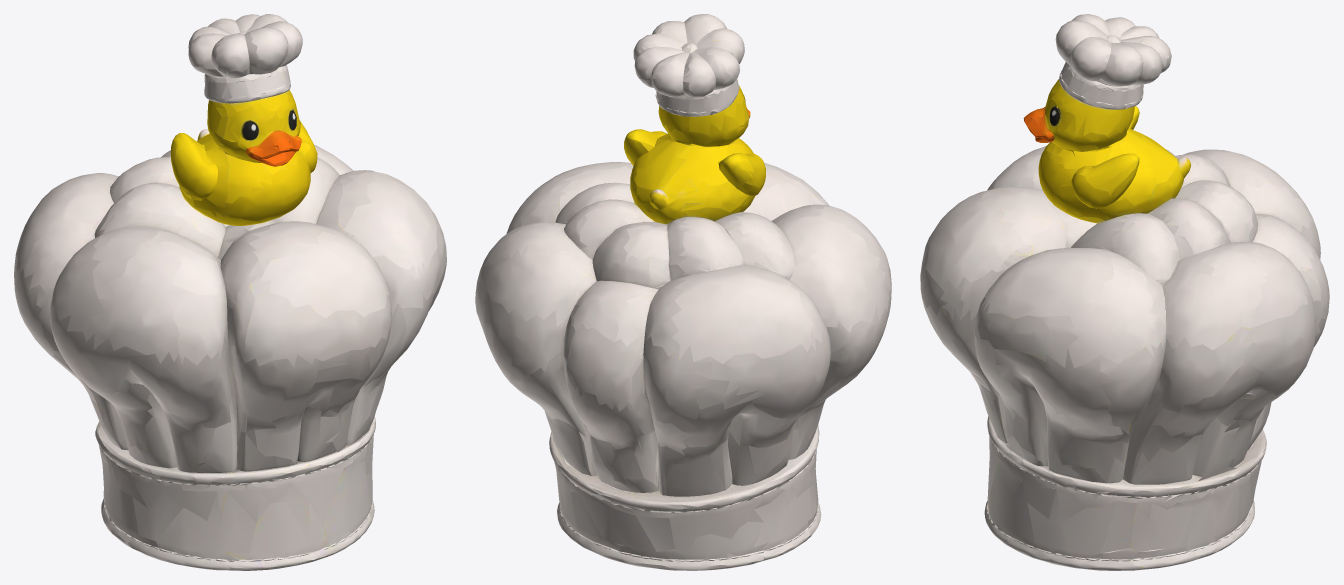
The model's file is duck_toque.glb.
The picture shows the model from 3 angles, left to right: view 1: azimuth 30°, elevation 25°; view 2: azimuth 150°, elevation 25°; view 3: azimuth 270°, elevation 25°; orthographic projection. The views are drawn at different scales.
Parts seen in each view (by area): view 1: Mesh_0; view 2: Mesh_0; view 3: Mesh_0.
Part boxes in pixels (x1,y1,x2,y2): Mesh_0: [14, 14, 446, 570]; Mesh_0: [475, 14, 891, 570]; Mesh_0: [920, 14, 1329, 570].
Size of the model in its own units: 0.7773 by 1 by 0.747.
1 material, 1 textured.
